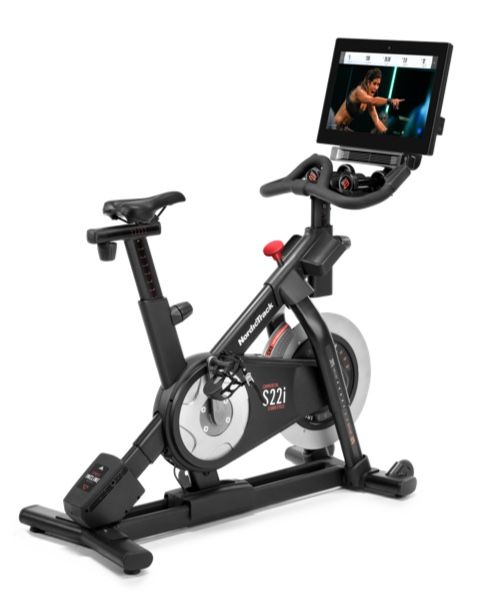gym_bike: (21, 37, 451, 570)
